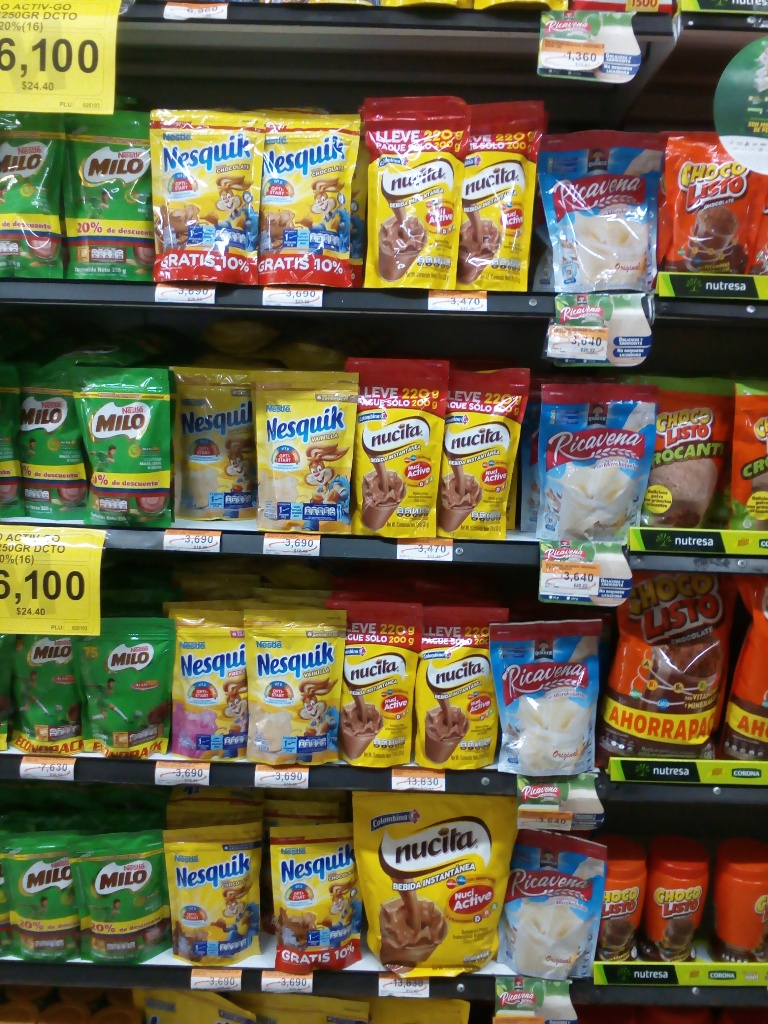COL0170102DYP25000: (648, 373, 730, 525)
COL0170103DYP1,500: (607, 569, 729, 759)
COL0170103TRR30000: (600, 835, 652, 960)
COL0170203DYP25000: (3, 114, 68, 276)
COL0170305DYP20000: (169, 609, 250, 760)
COL0170306DYP20000: (175, 372, 252, 523)
